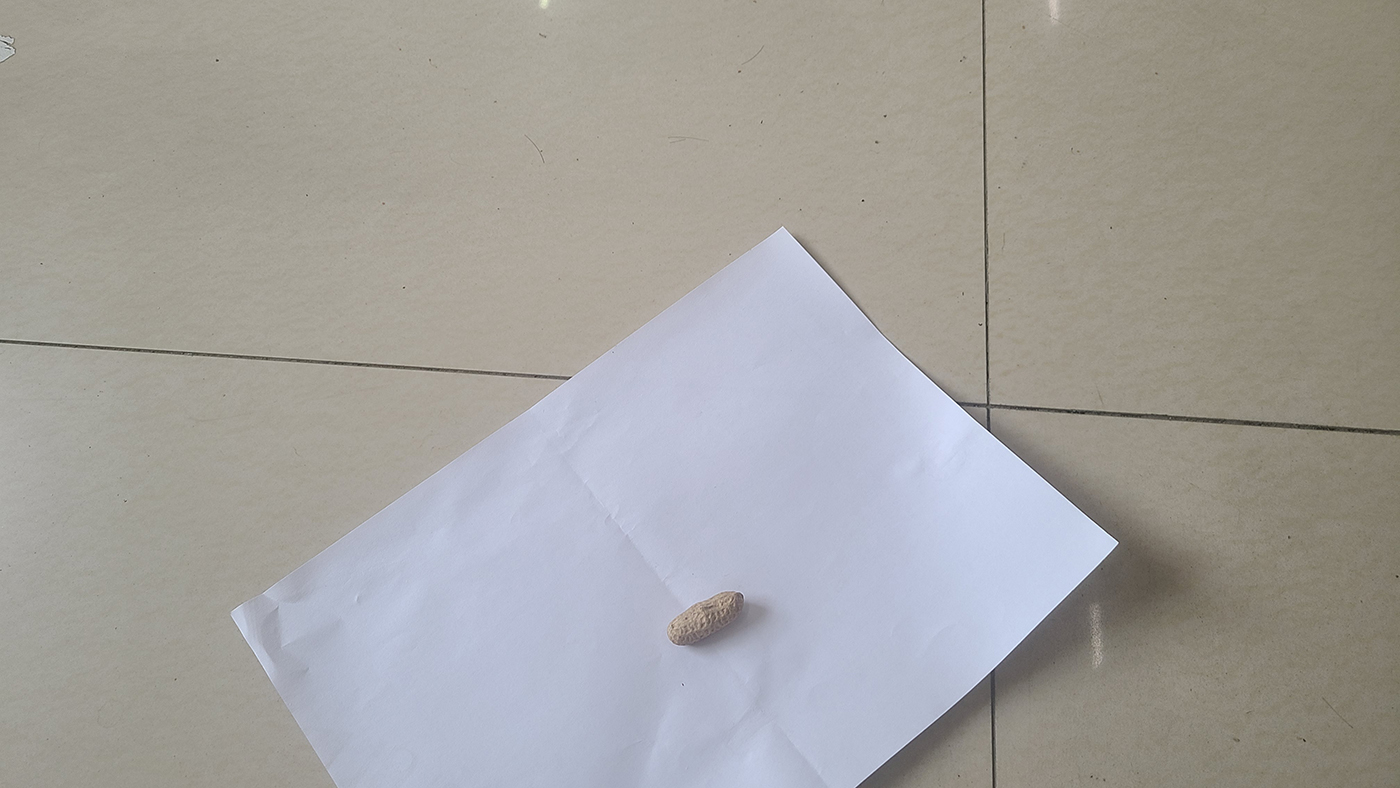h: (666, 591, 744, 648)
